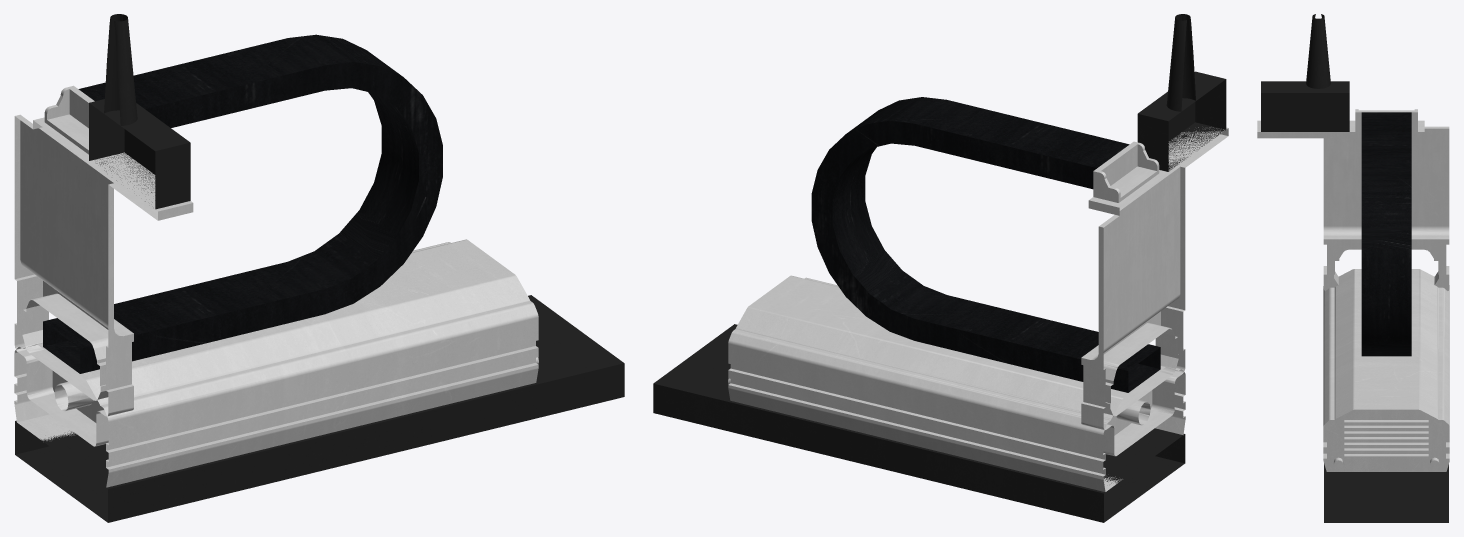
File: PickingStation_Cube04.glb
3 renders of one model, left to right at view 1: azimuth 30°, elevation 25°; view 2: azimuth 150°, elevation 25°; view 3: azimuth 270°, elevation 25°, orthographic. The views are drawn at different scales.
Visible parts, largest first — view 1: color-13[5]; view 2: color-13[5]; view 3: color-13[5].
Part boxes in pixels (x1,y1,x2,y2): color-13[5]: (14, 14, 624, 522); color-13[5]: (653, 14, 1228, 522); color-13[5]: (1257, 14, 1449, 522).
Size of the model in its own units: 0.32 by 0.3 by 0.154.
Materials: 3 (3 with a texture image).
